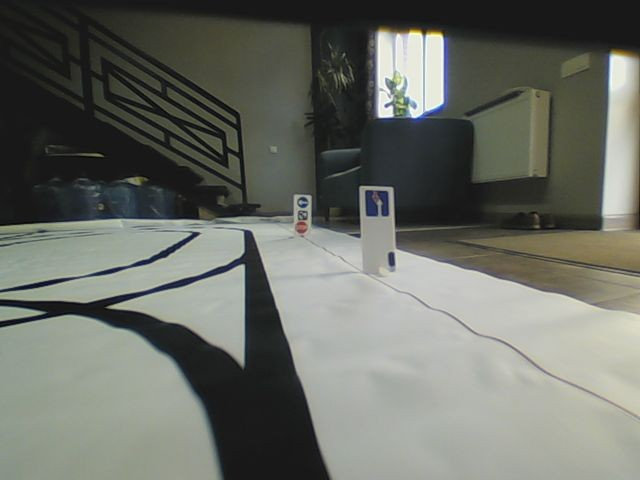priority_movement: (364, 188, 390, 217)
